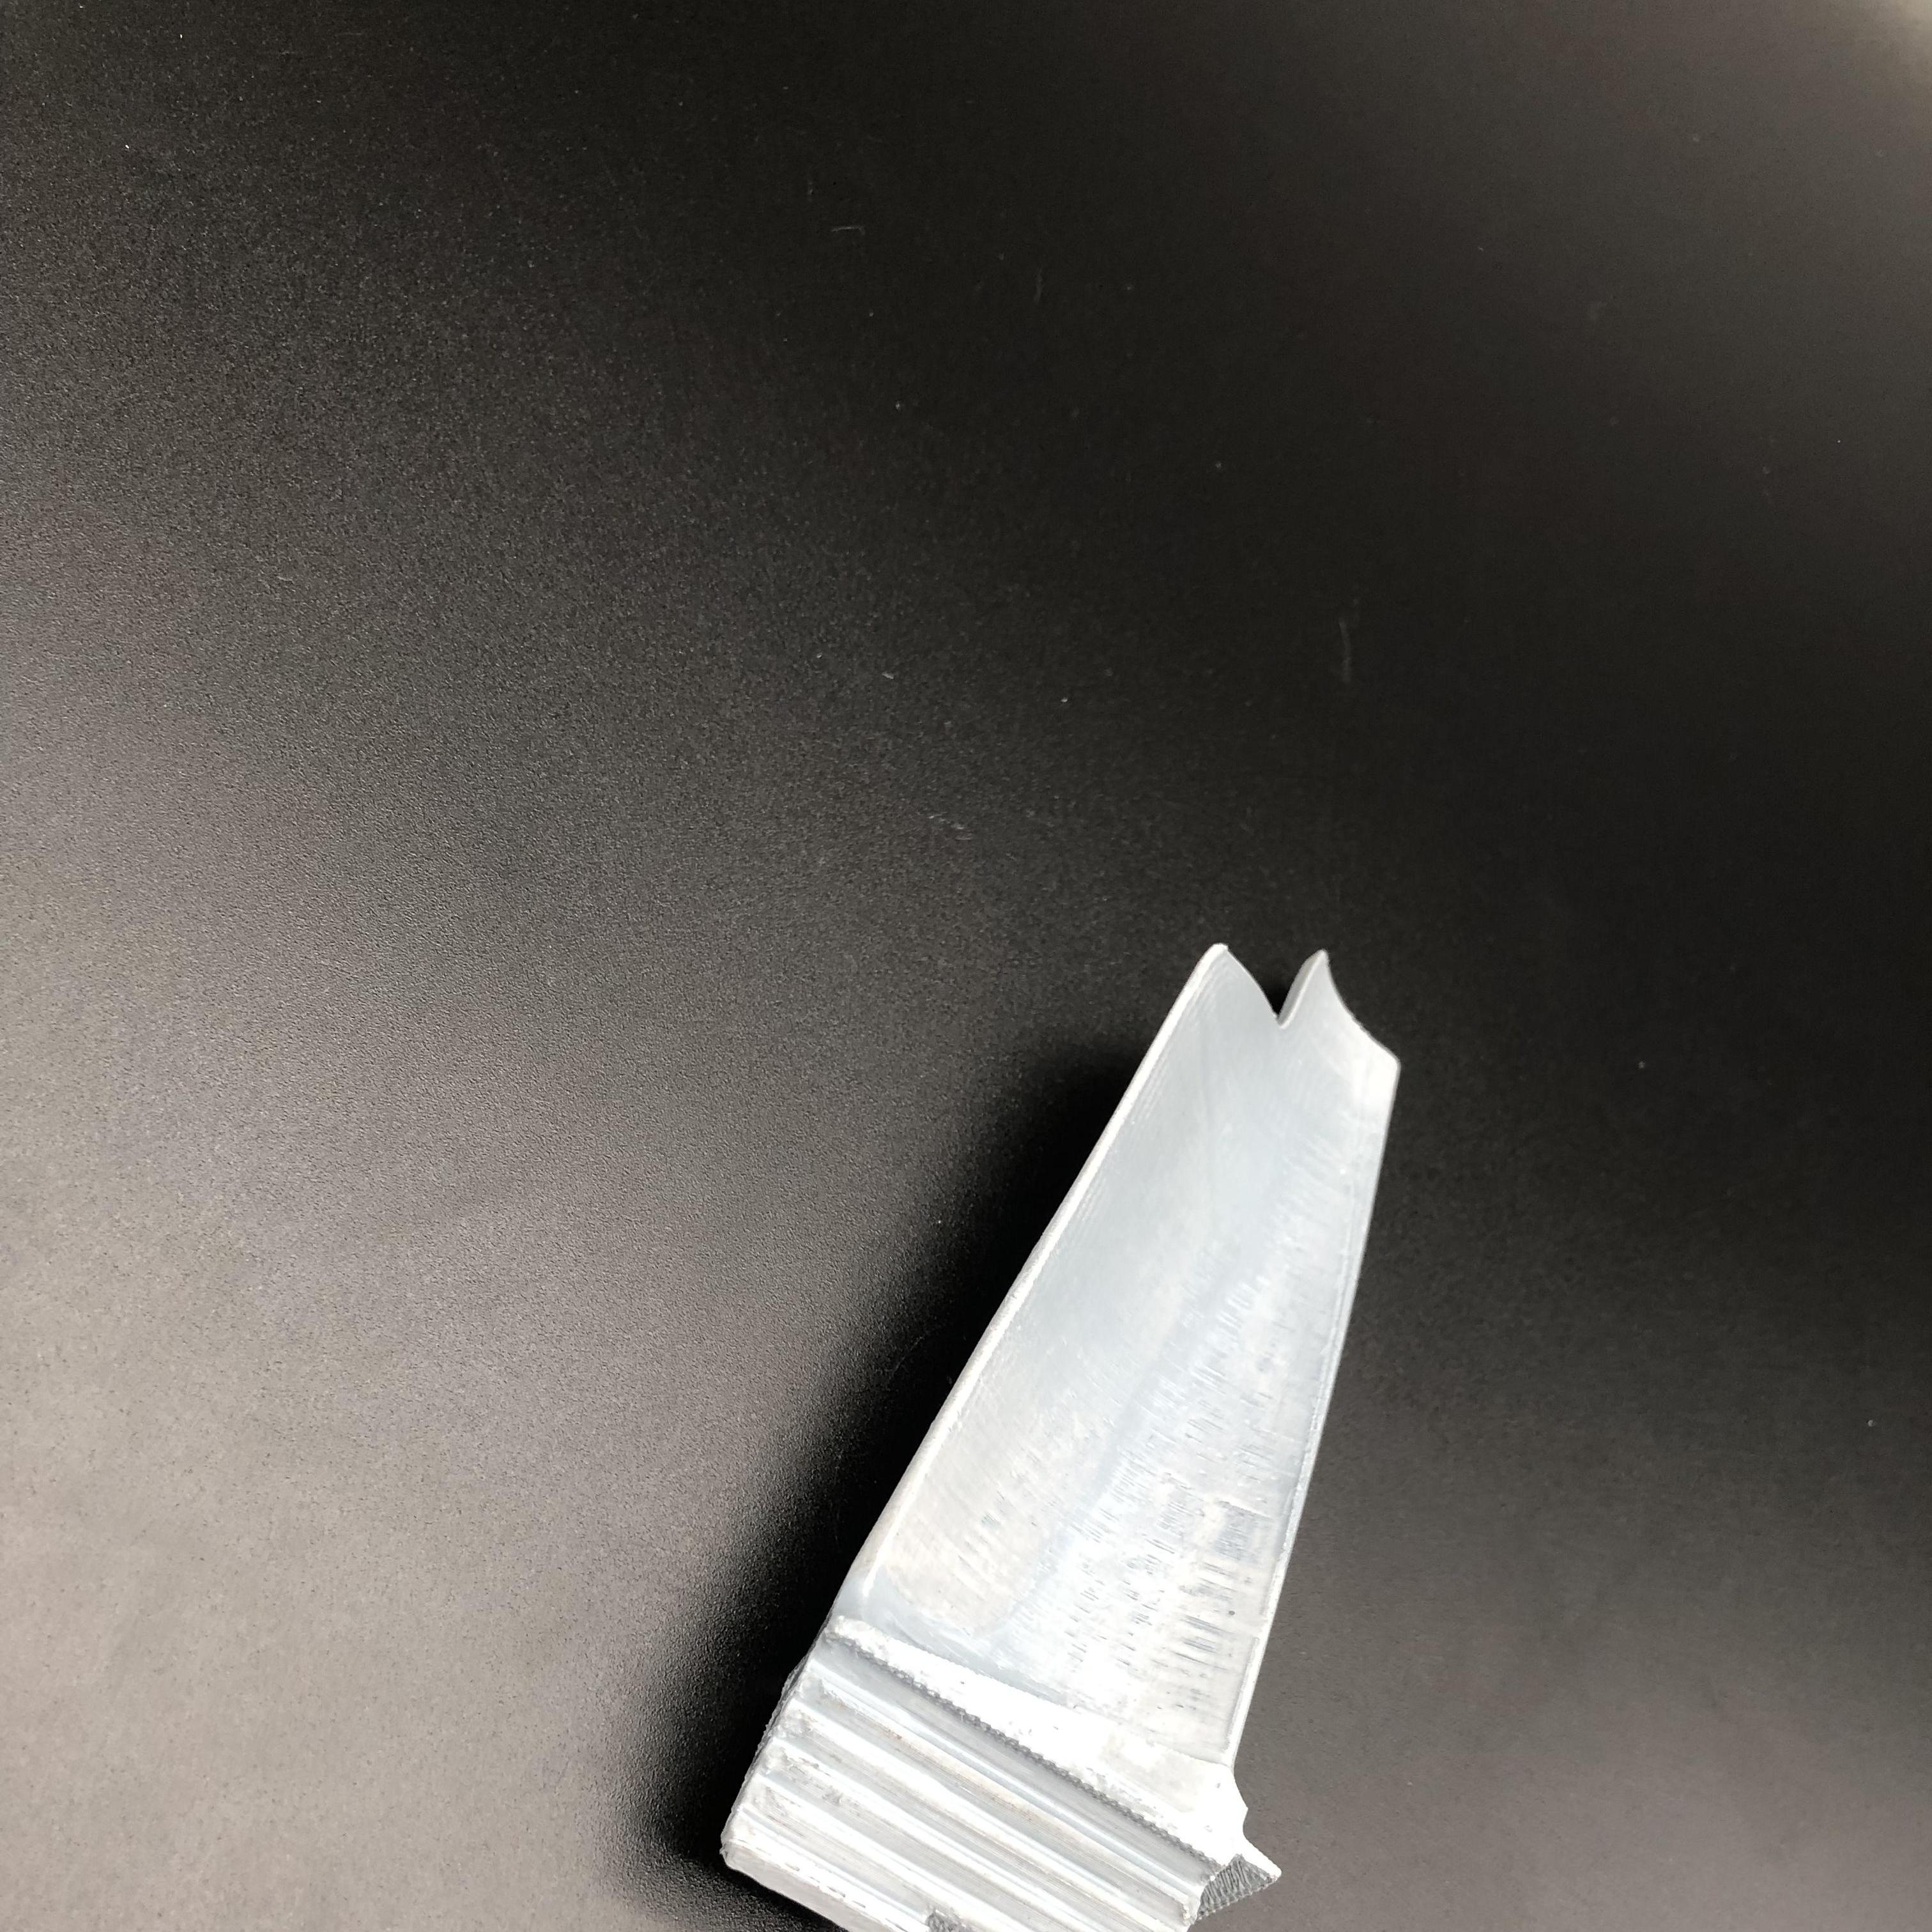fracture: (1217, 927, 1359, 1035)
